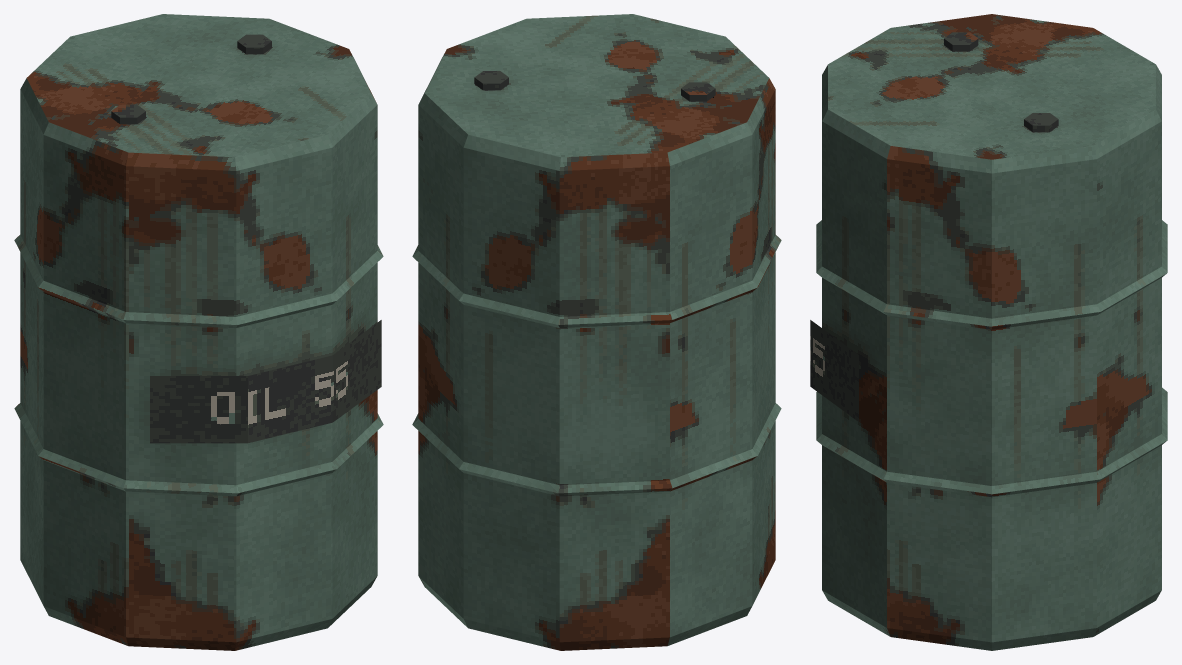
3 views of the same model, side by side, from view 1: azimuth 30°, elevation 25°; view 2: azimuth 150°, elevation 25°; view 3: azimuth 270°, elevation 25° (orthographic).
Parts seen in each view (by area): view 1: px_barrel; view 2: px_barrel; view 3: px_barrel.
Part boxes in pixels (box(x1,y1,x2,y2)): px_barrel: box(14, 14, 383, 650); px_barrel: box(412, 14, 781, 650); px_barrel: box(810, 14, 1167, 650).
Bounding box in the file's own units: 0.6 × 0.892 × 0.5804.
1 material, 1 textured.
